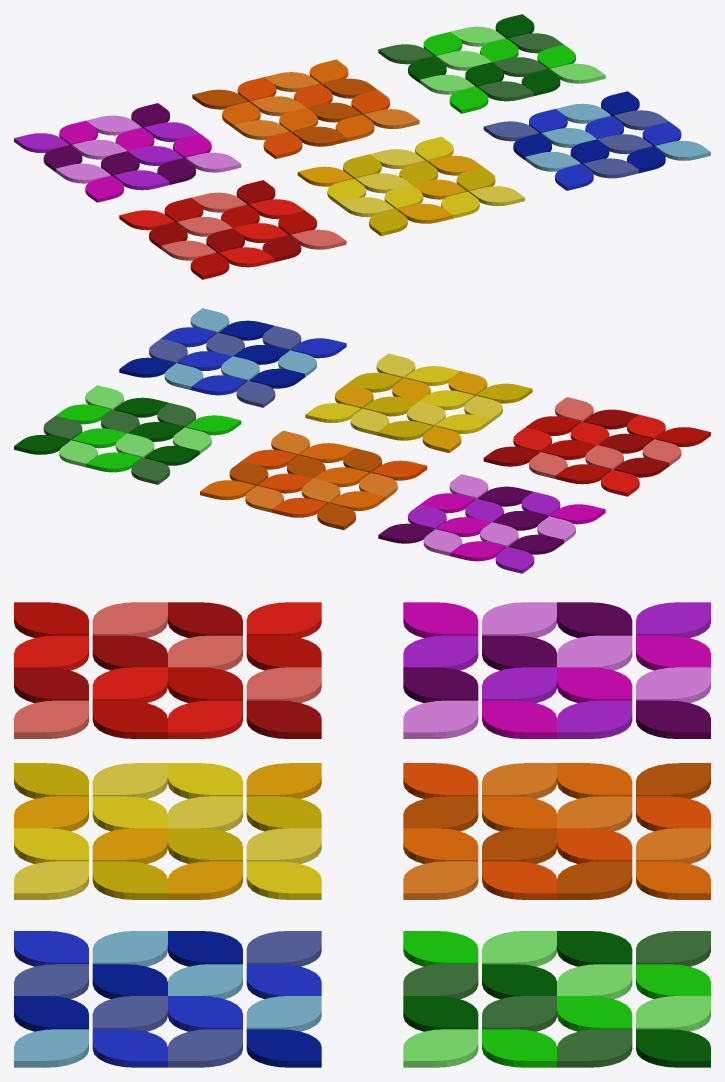
Rendered from barrier.fbx.
3 renders of one model, top to bottom at view 1: azimuth 30°, elevation 25°; view 2: azimuth 150°, elevation 25°; view 3: azimuth 270°, elevation 25°, orthographic. The views are drawn at different scales.
Visible parts, largest first — view 1: barrierpurple.000, barriergreen.001, barrierorange.004, barriergreen.000, barrierpurple.004, barrierorange.000; view 2: barriergreen.000, barrierpurple.004, barrierorange.000, barrierpurple.000, barriergreen.001, barrierorange.004; view 3: barrierpurple.000, barriergreen.000, barriergreen.001, barrierpurple.004, barrierorange.000, barrierorange.004.
Part boxes in pixels (left/top/right/bottom): barrierpurple.000: left=119, top=180, right=346, bottom=279; barriergreen.001: left=378, top=14, right=605, bottom=113; barrierorange.004: left=192, top=59, right=419, bottom=159; barriergreen.000: left=483, top=91, right=710, bottom=190; barrierpurple.004: left=14, top=103, right=241, bottom=202; barrierorange.000: left=297, top=136, right=524, bottom=236; barriergreen.000: left=119, top=308, right=346, bottom=407; barrierpurple.004: left=378, top=474, right=605, bottom=573; barrierorange.000: left=305, top=353, right=532, bottom=453; barrierpurple.000: left=483, top=397, right=710, bottom=496; barriergreen.001: left=14, top=385, right=241, bottom=484; barrierorange.004: left=200, top=430, right=427, bottom=530; barrierpurple.000: left=14, top=602, right=321, bottom=738; barriergreen.000: left=14, top=931, right=321, bottom=1067; barriergreen.001: left=403, top=931, right=710, bottom=1067; barrierpurple.004: left=403, top=602, right=710, bottom=738; barrierorange.000: left=14, top=763, right=321, bottom=899; barrierorange.004: left=403, top=763, right=710, bottom=899.
Bounding box in the file's own units: 723 × 5 × 464.
